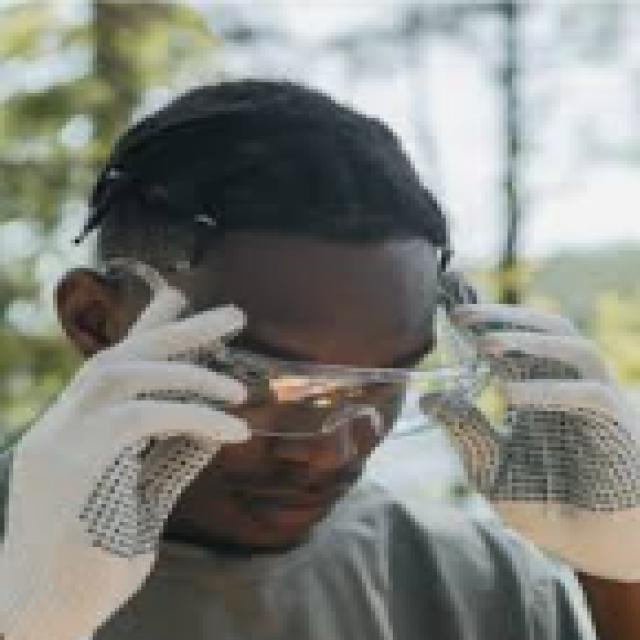glasses: (147, 294, 482, 438)
